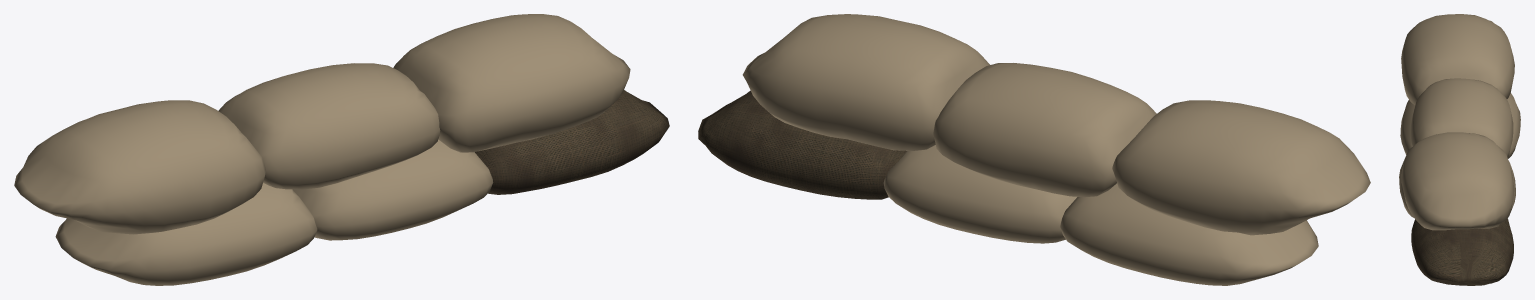
The model's file is S7U_SandbagsS_2L_A.fbx.
3 renders of one model, left to right at view 1: azimuth 30°, elevation 25°; view 2: azimuth 150°, elevation 25°; view 3: azimuth 270°, elevation 25°, orthographic. The views are drawn at different scales.
Visible parts, largest first — view 1: S7U_SandbagsS_2L_A; view 2: S7U_SandbagsS_2L_A; view 3: S7U_SandbagsS_2L_A.
Part boxes in pixels (x1,y1,x2,y2): S7U_SandbagsS_2L_A: [14, 14, 669, 285]; S7U_SandbagsS_2L_A: [698, 14, 1370, 285]; S7U_SandbagsS_2L_A: [1399, 14, 1520, 285].
Bounding box in the file's own units: 1.24 × 0.2892 × 0.3048.
